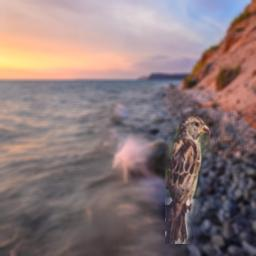Sparrow: (165, 114, 209, 244)
